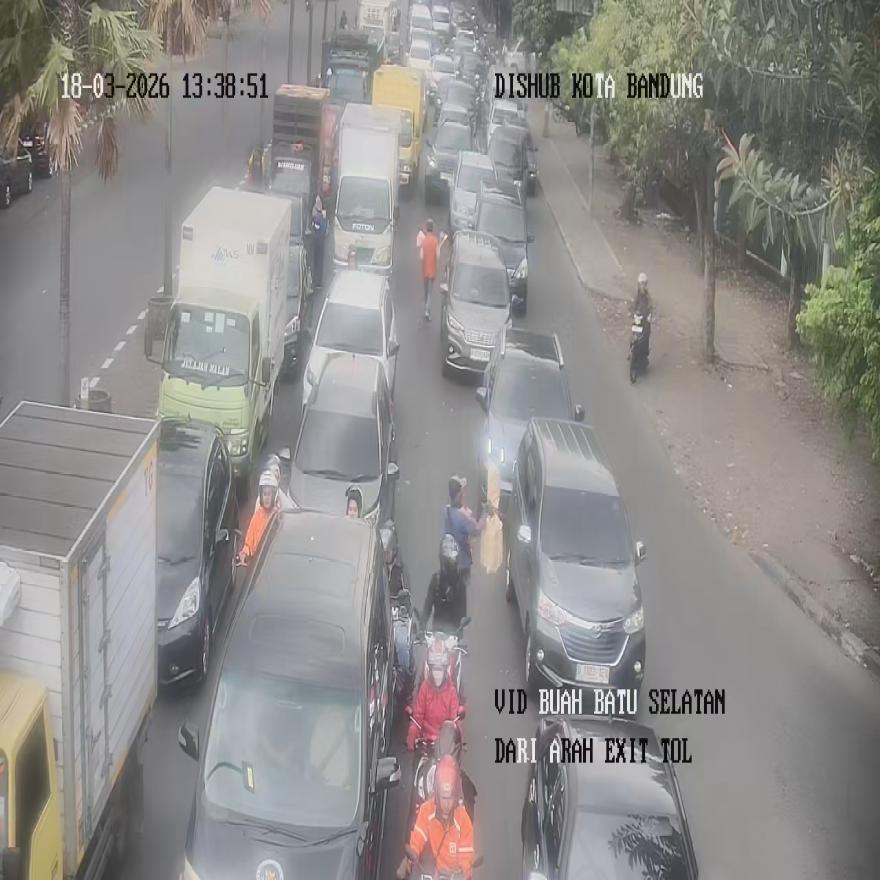Motor: (176, 510, 400, 878), (505, 418, 646, 717), (520, 716, 699, 878), (156, 414, 239, 688), (279, 350, 400, 529), (475, 326, 583, 516), (301, 266, 398, 414), (439, 228, 514, 376)
Truk: (400, 706, 477, 879), (424, 614, 468, 702), (389, 589, 418, 708), (628, 309, 651, 383)
